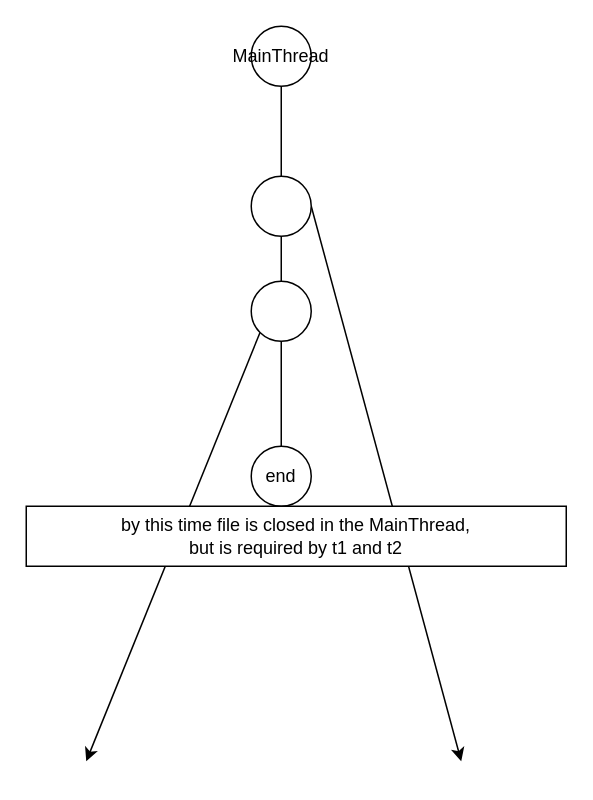
The diagram is 593 pixels wide and 800 high, and some of its shapes have lost their labels. The shapes that lost their labels are listed below. From the top down, each one's centre as x and y in pixels, then its label:
the point at 280,205: t1
the point at 280,310: t2
